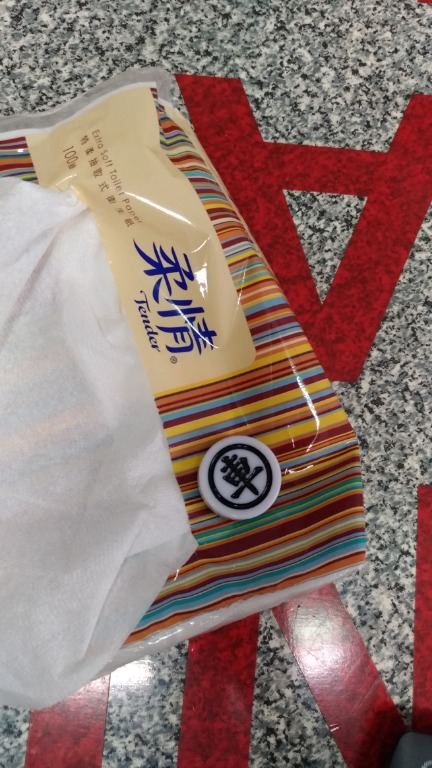b-king: (188, 437, 295, 525)
